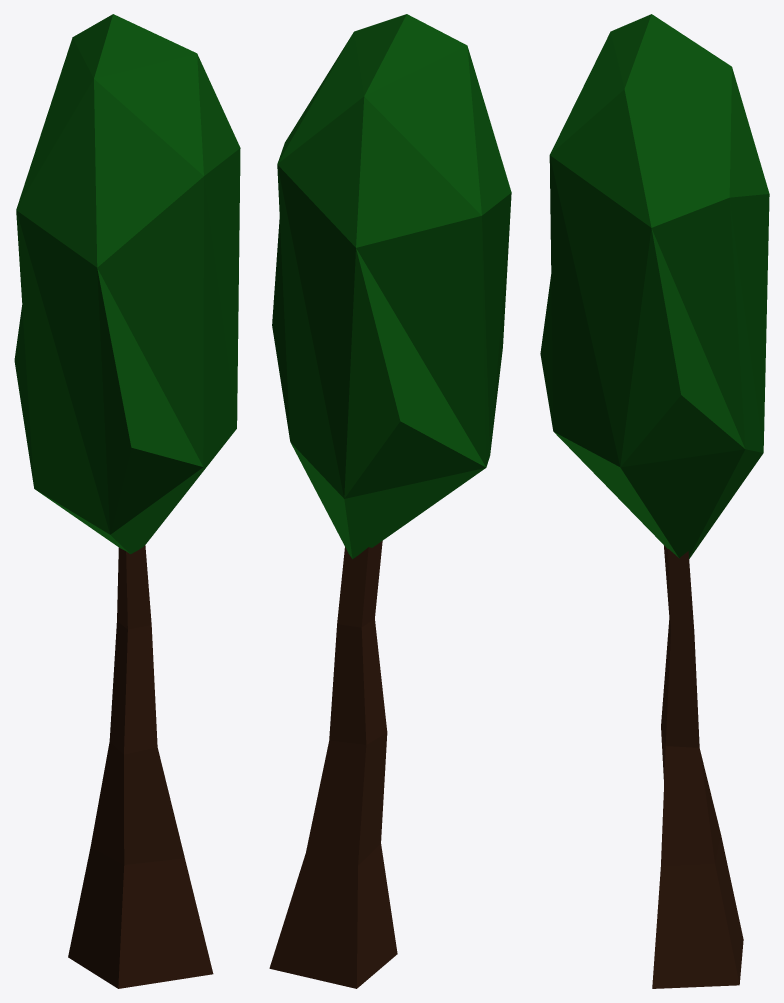
Rendered from Forest01_Lowpoly Tree 2B.FBX.
The picture shows the model from 3 angles, left to right: view 1: azimuth 30°, elevation 25°; view 2: azimuth 150°, elevation 25°; view 3: azimuth 270°, elevation 25°; orthographic projection. The views are drawn at different scales.
Parts seen in each view (by area): view 1: trunk2; view 2: trunk2; view 3: trunk2.
Boxes of the visible parts, bbox=[...] form: trunk2: bbox=[14, 14, 240, 988]; trunk2: bbox=[269, 14, 511, 988]; trunk2: bbox=[540, 14, 769, 988].
Bounding box in the file's own units: 22.81 × 99.99 × 22.36.
